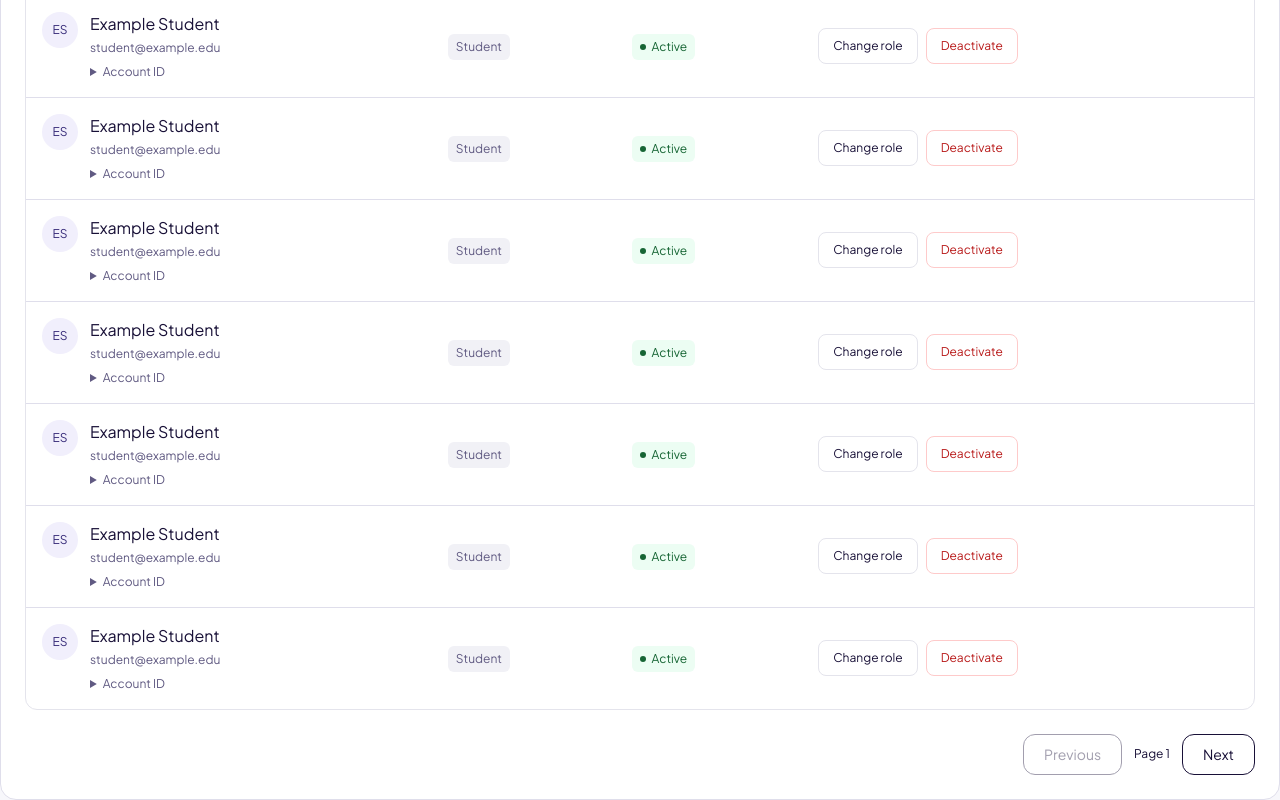
paginates without inventing a total count
(page scrolled)
What coordinates should you click on to do the following:
click the button "Next"
I would click on:
 (1218, 754)
Its box is x1=1182 y1=734 x2=1255 y2=775.
(page scrolled)
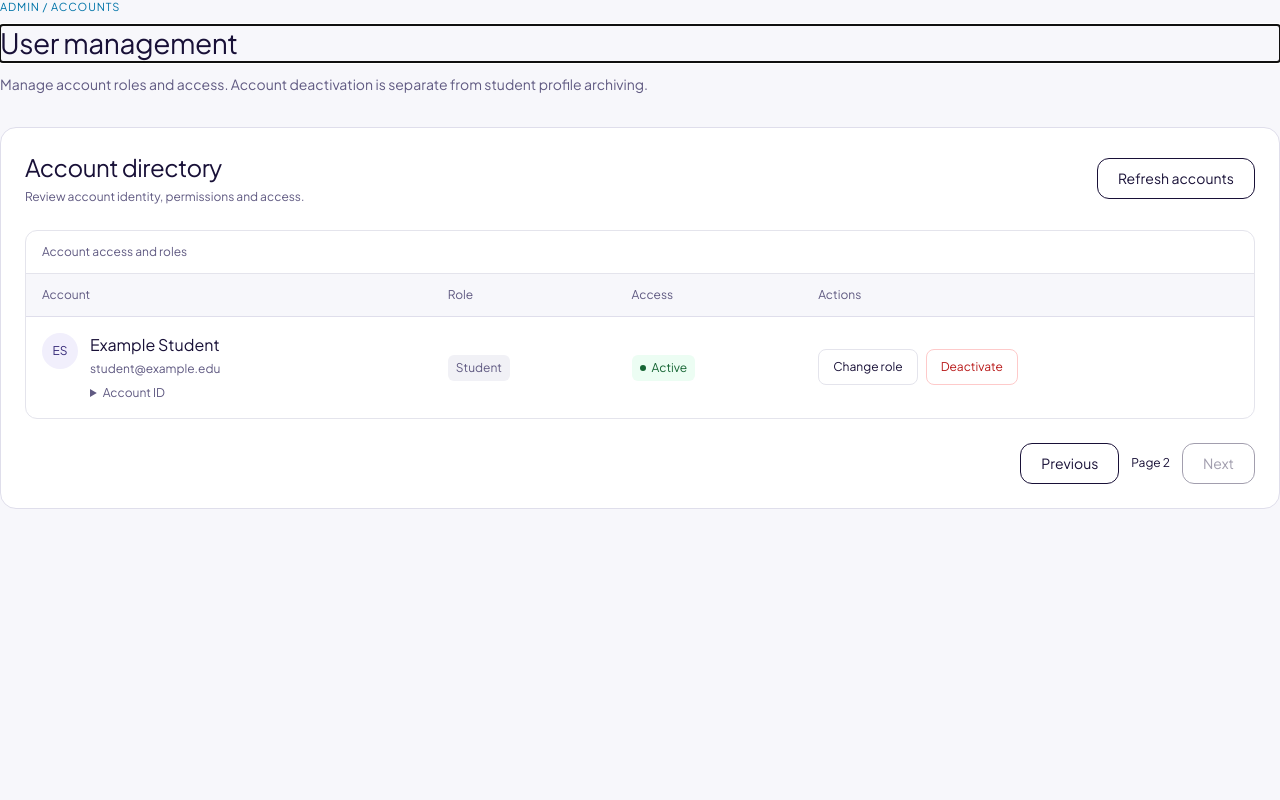
Expected: the text "Page 2" is shown, x1=1131 y1=454 x2=1170 y2=472
What coordinates should you click on to do the following:
click the button "Previous"
I would click on:
 (1070, 463)
Its box is x1=1020 y1=443 x2=1119 y2=484.
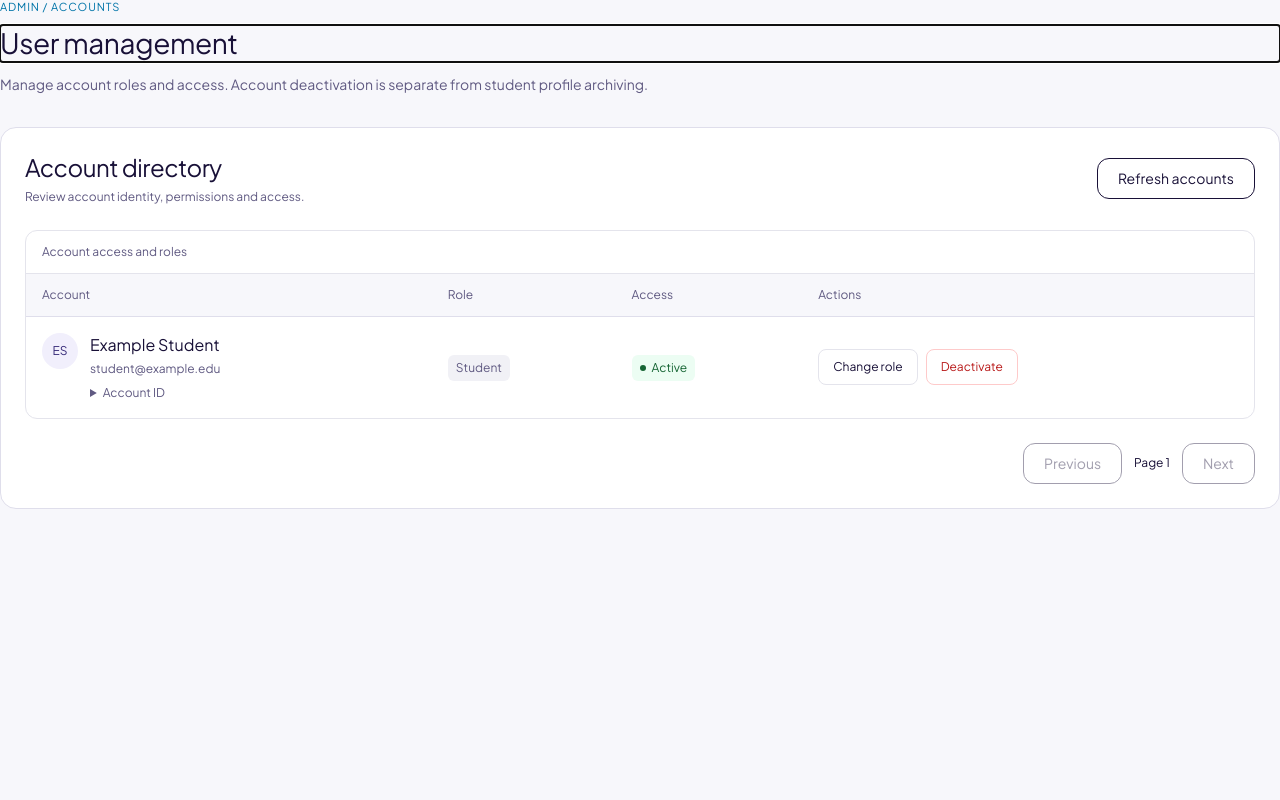
Expected: the text "Page 1" is shown, x1=1134 y1=454 x2=1170 y2=472
